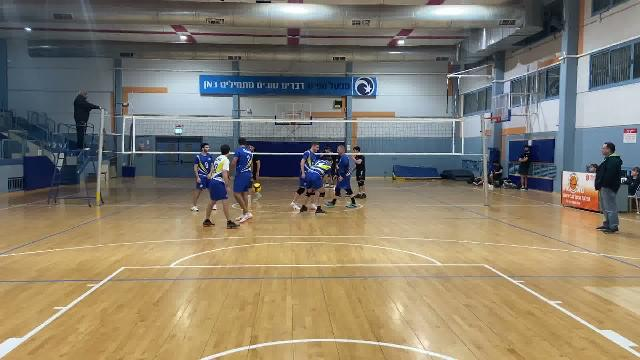ball: (250, 181, 262, 196)
